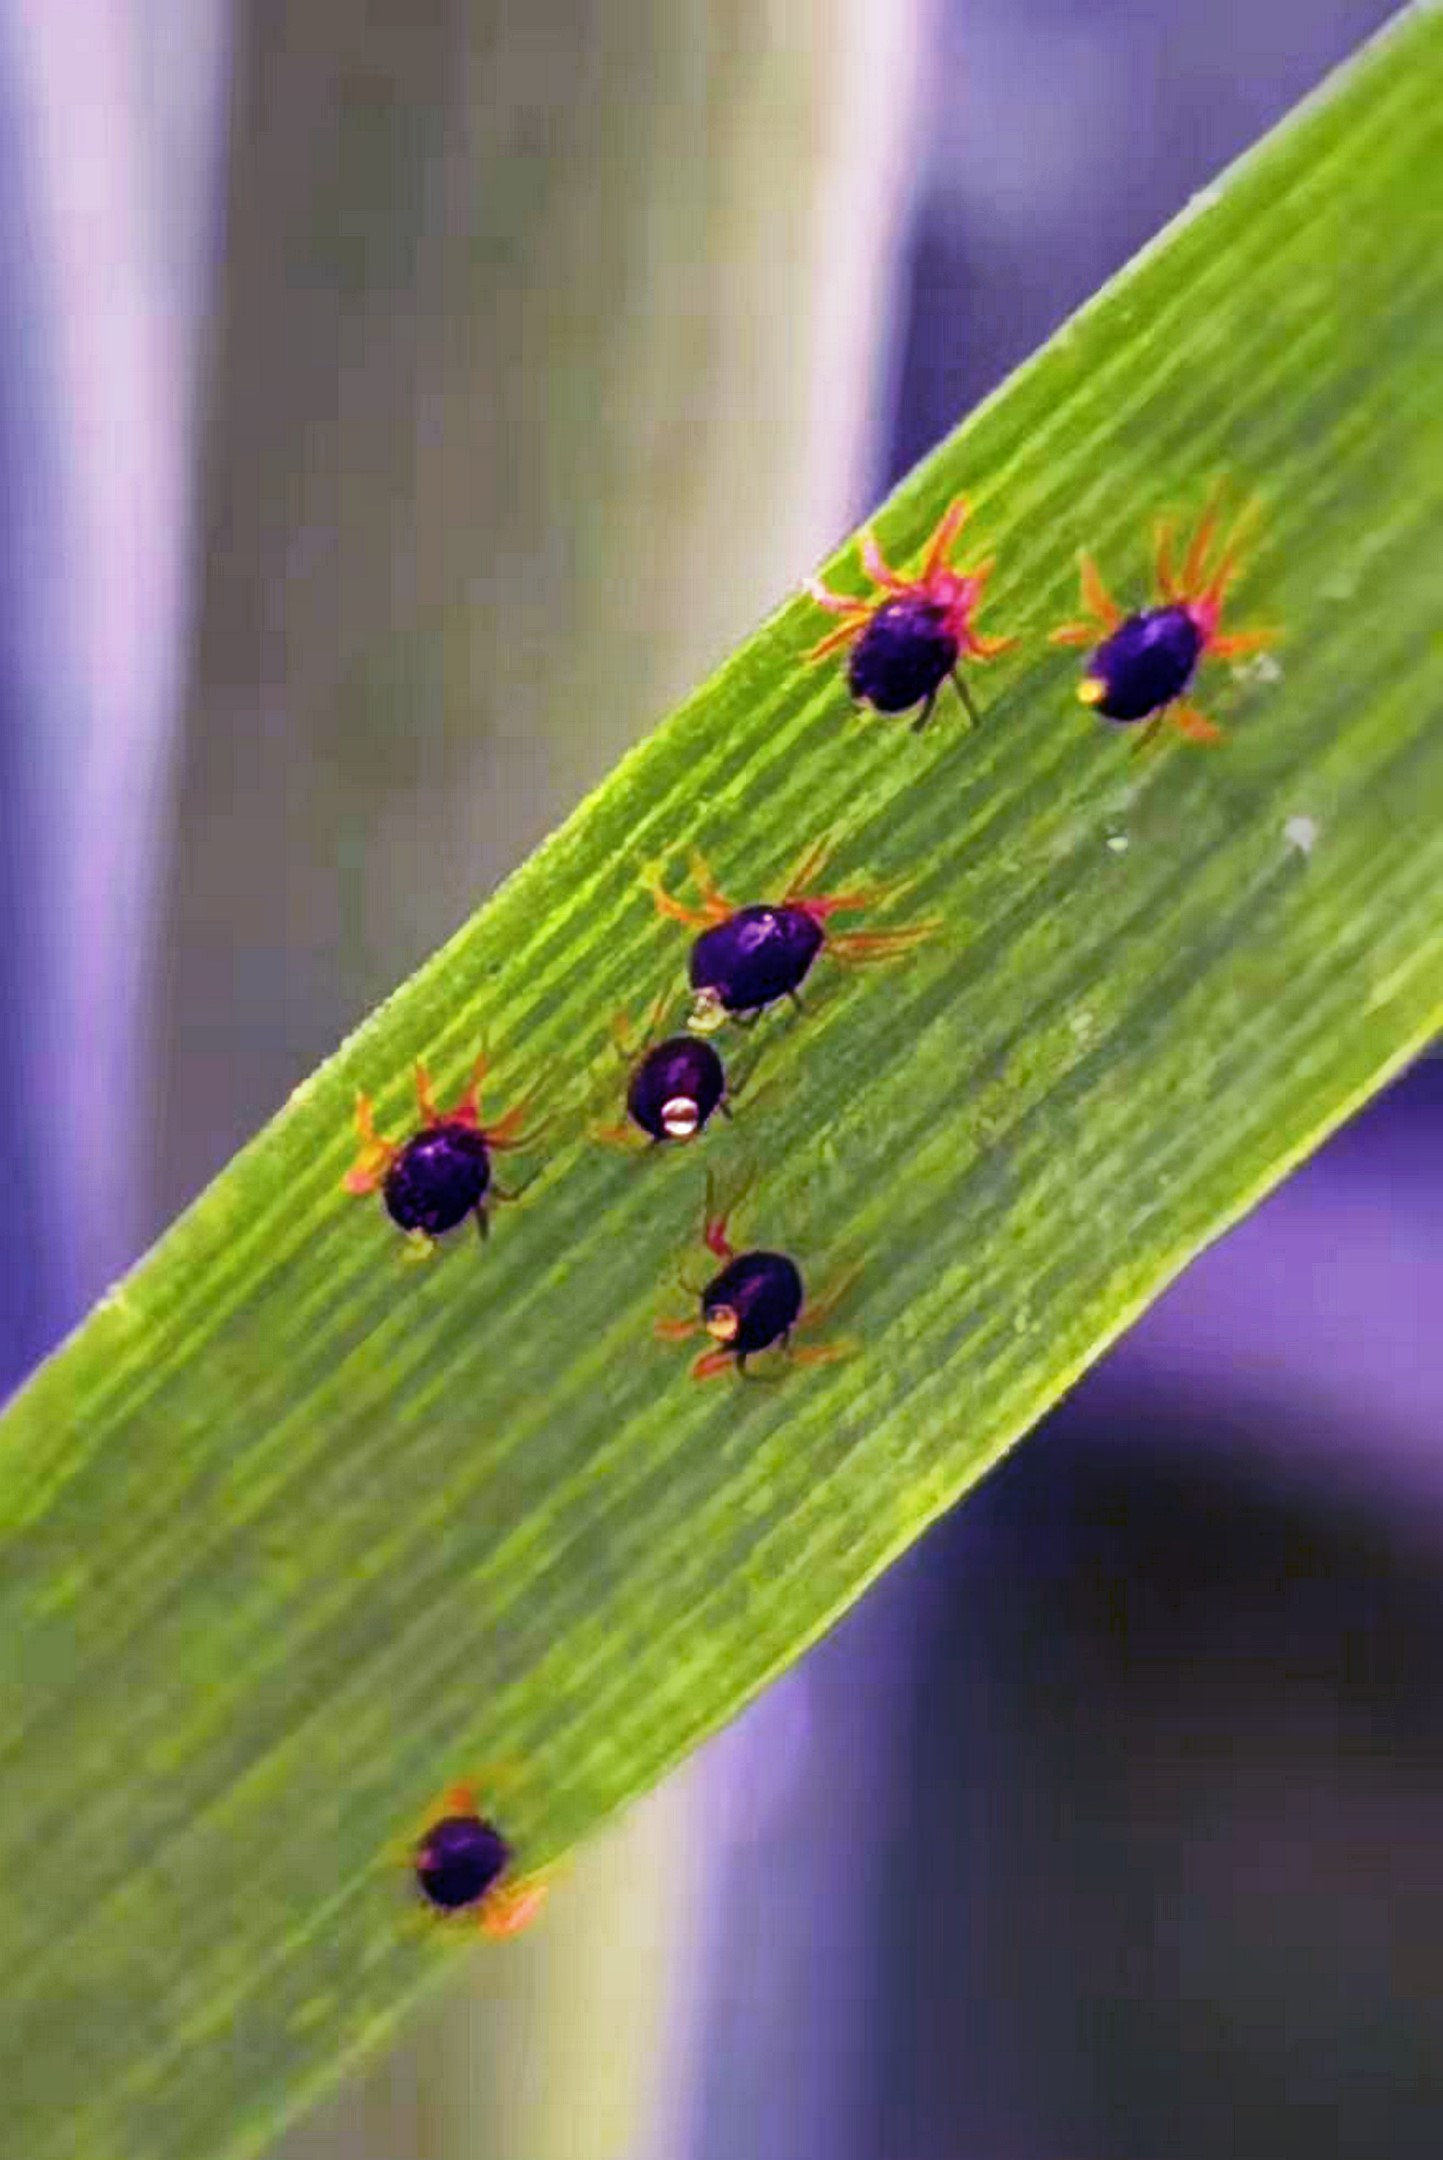Wheat Red Spider: (283, 494, 1296, 1403)
